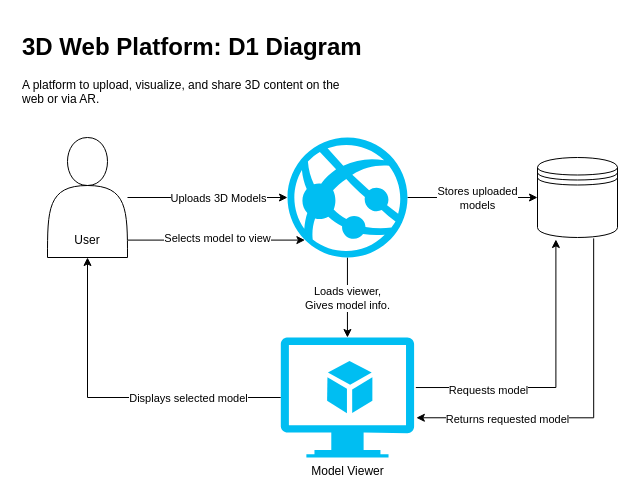
The diagram is 635 pixels wide and 495 high, and some of its shapes have lost their labels. Here are the shapes that lost their labels. From the top down, the box of each, then its label:
(287, 137, 407, 257): Platform
(536, 156, 618, 238): Model Storage
